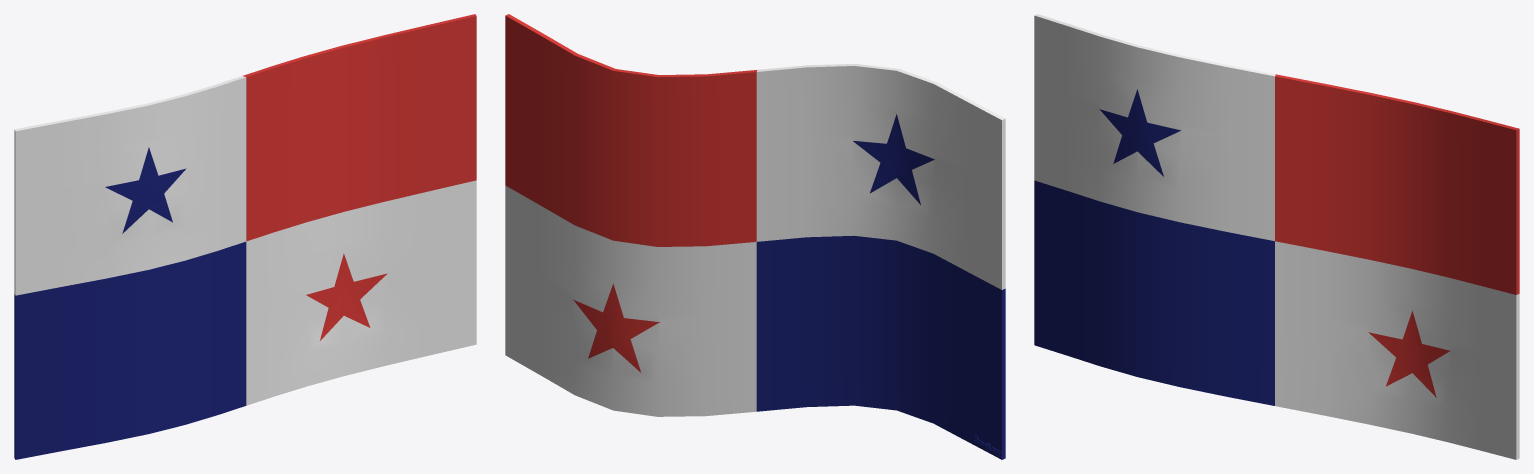
Rendered from flag_panama.fbx.
3 views of the same model, side by side, from view 1: azimuth 30°, elevation 25°; view 2: azimuth 150°, elevation 25°; view 3: azimuth 330°, elevation 25° (orthographic). The views are drawn at different scales.
Parts seen in each view (by area): view 1: flag_panama; view 2: flag_panama; view 3: flag_panama.
Boxes of the visible parts, bbox=[...] form: flag_panama: bbox=[14, 14, 476, 459]; flag_panama: bbox=[505, 14, 1005, 459]; flag_panama: bbox=[1034, 14, 1519, 459].
Size of the model in its own units: 218 by 158 by 33.73.
Materials: 1 (1 with a texture image).
